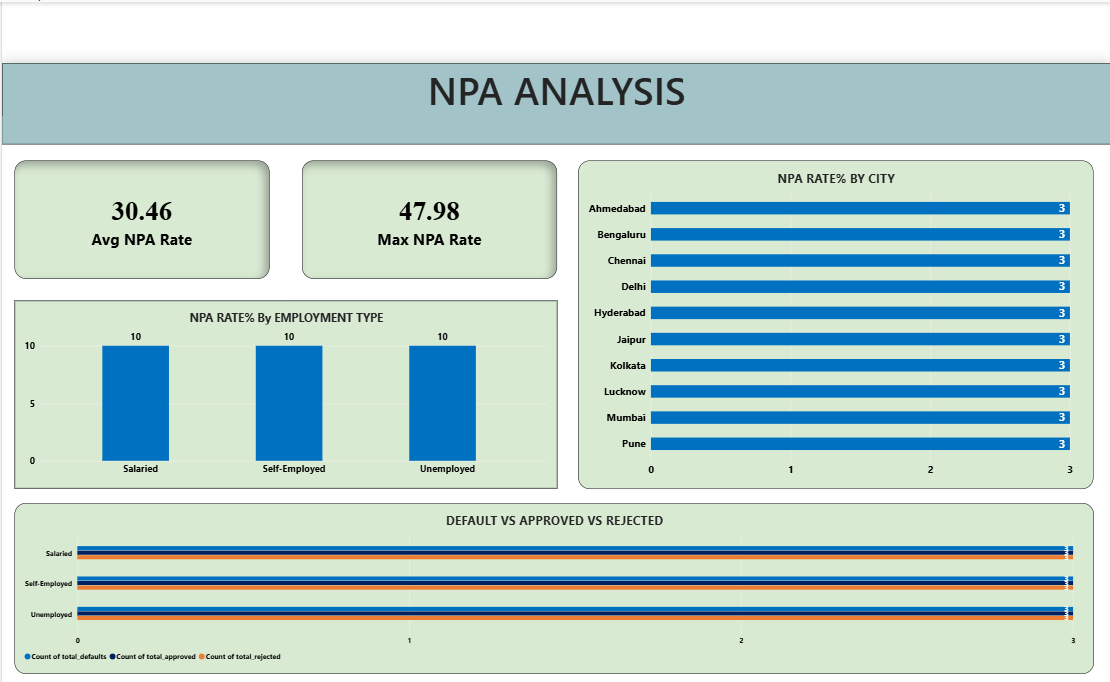

This screenshot's page, from the dashboard's own definition file:
{"tool":"powerbi","page":{"name":"NPA Analysis","canvas":[1920,1080],"ordinal":1},"visuals":[{"type":"shape","title":"NPA ANALYSIS","box":[0,0,1920,140.8],"z":0},{"type":"card","fields":{"Values":["Measure Table.Avg NPA Rate"]},"box":[21.3,168.5,441.6,204.8],"z":1000},{"type":"card","fields":{"Values":["Measure Table.Max NPA Rate"]},"box":[518.4,168.5,441.6,204.8],"z":2000},{"type":"clusteredColumnChart","title":"NPA RATE% By EMPLOYMENT TYPE","fields":{"Category":["vw_risk_scoring.employment_type"],"Y":["CountNonNull(vw_city_risk.npa_rate_pct)"]},"box":[21.4,411.1,939.7,325.7],"z":3000},{"type":"clusteredBarChart","title":"DEFAULT VS APPROVED VS REJECTED","fields":{"Category":["vw_risk_scoring.employment_type"],"Y":["CountNonNull(vw_npa_by_employment.total_defaults)","CountNonNull(vw_npa_by_employment.total_approved)","CountNonNull(vw_npa_by_employment.total_rejected)"]},"box":[21.4,760.9,1868.8,296.3],"z":4000},{"type":"clusteredBarChart","title":"NPA RATE% BY CITY","fields":{"Category":["vw_risk_scoring.city"],"Y":["CountNonNull(vw_npa_by_employment.npa_rate_pct)"]},"box":[998.5,168.2,891.7,568.6],"z":5000}]}

Visuals, with their boxes on the page's 1920x1080 design canvas (x1, y1, x2, y2). These are canvas units, not pixel positions in the 1110x682 screenshot, which may show the page scaled, cropped or inside an application window:
"NPA ANALYSIS" shape: <box>0,0,1920,141</box>
card - Measure Table.Avg NPA Rate: <box>21,168,463,373</box>
card - Measure Table.Max NPA Rate: <box>518,168,960,373</box>
"NPA RATE% By EMPLOYMENT TYPE" clusteredColumnChart: <box>21,411,961,737</box>
"DEFAULT VS APPROVED VS REJECTED" clusteredBarChart: <box>21,761,1890,1057</box>
"NPA RATE% BY CITY" clusteredBarChart: <box>998,168,1890,737</box>
